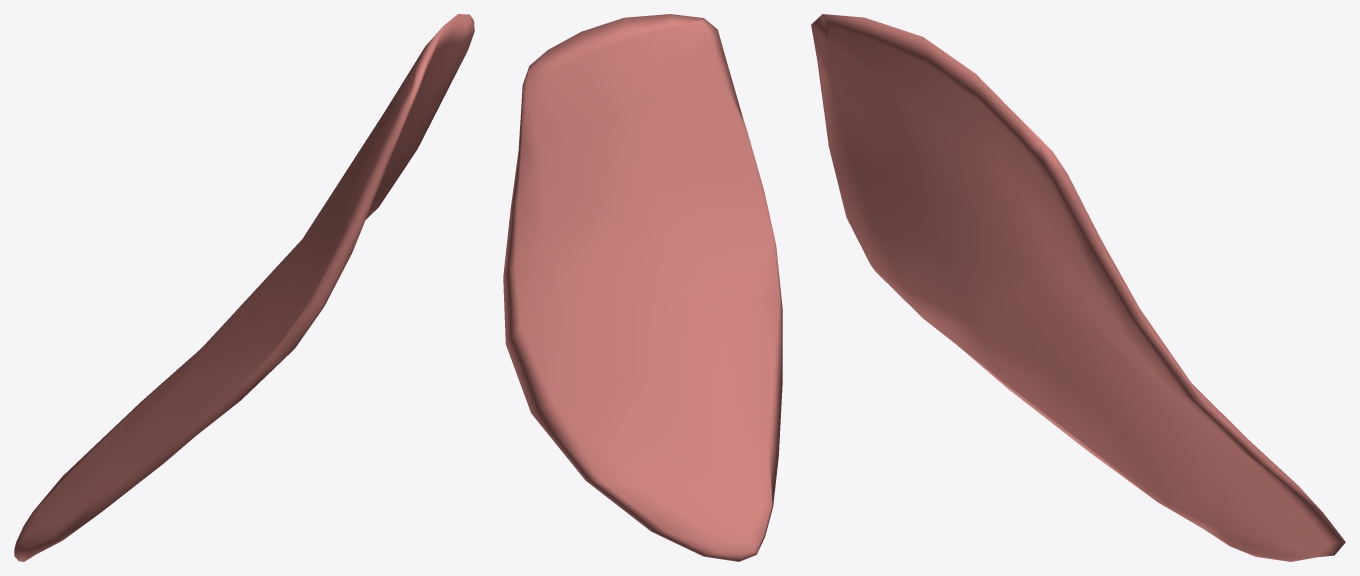
3 views of the same model, side by side, from view 1: azimuth 30°, elevation 25°; view 2: azimuth 150°, elevation 25°; view 3: azimuth 270°, elevation 25° (orthographic). The views are drawn at different scales.
Visible parts, largest first — view 1: ZA_c455c9d2ba130f2d; view 2: ZA_c455c9d2ba130f2d; view 3: ZA_c455c9d2ba130f2d.
Boxes of the visible parts, left/top/right/bottom form: ZA_c455c9d2ba130f2d: left=14, top=14, right=474, bottom=561; ZA_c455c9d2ba130f2d: left=503, top=14, right=782, bottom=561; ZA_c455c9d2ba130f2d: left=811, top=14, right=1345, bottom=561.
Size of the model in its own units: 0.0131 by 0.0182 by 0.0127.
